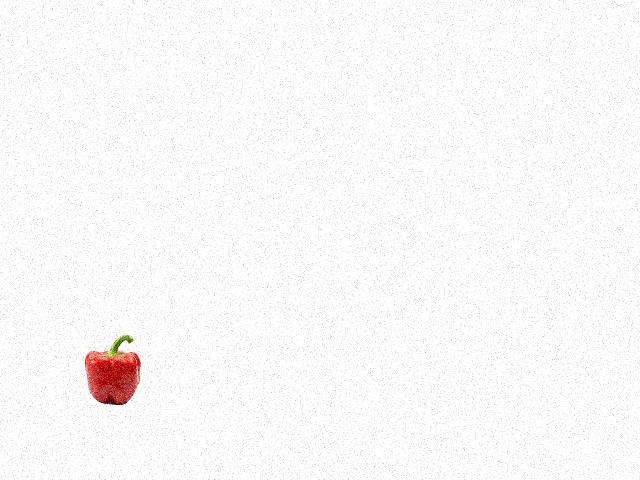bell_pepper: (81, 333, 144, 407)
